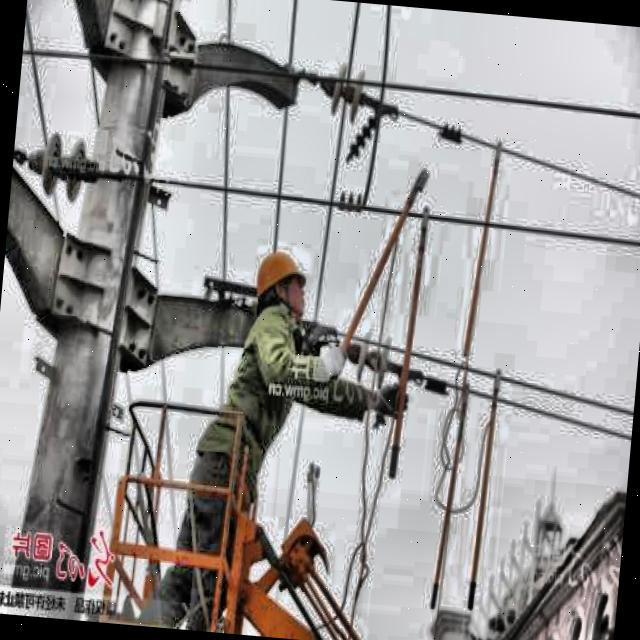helmet: (250, 246, 311, 330)
